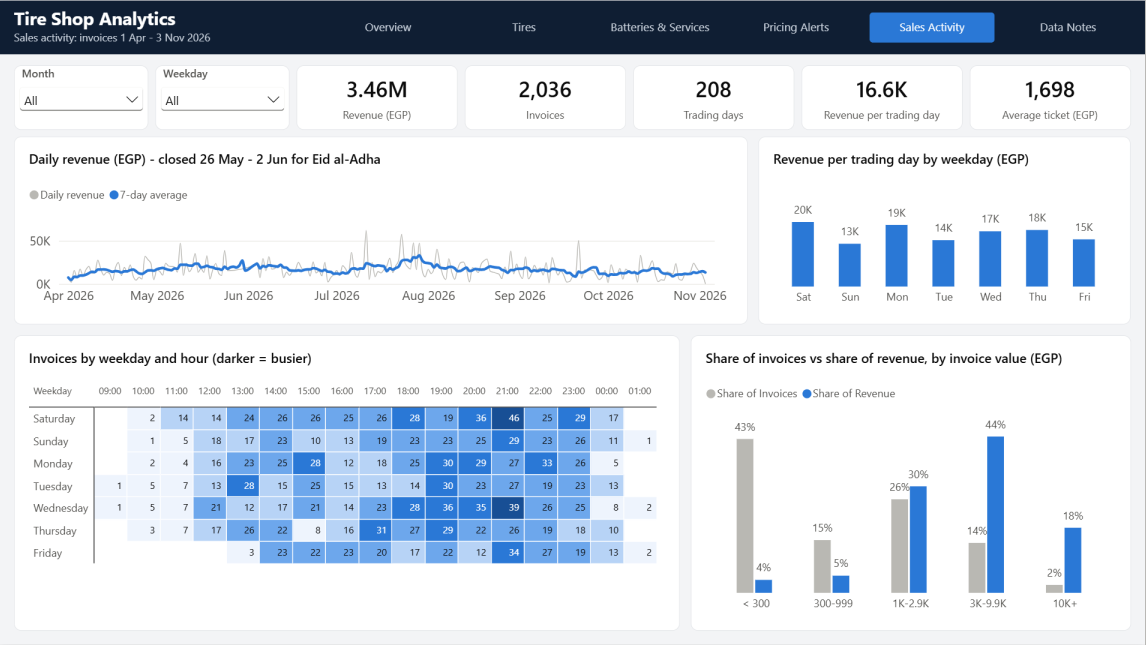

What the dashboard file says about the page in this screenshot:
{"tool":"powerbi","page":{"name":"Sales Activity","canvas":[1280,720],"ordinal":4},"visuals":[{"type":"shape","box":[0,0,1280,60],"z":100},{"type":"textbox","box":[16,6,340,50],"z":200},{"type":"pageNavigator","box":[364,13,900,34],"z":300},{"type":"slicer","fields":{"Values":["Calendar.Month Short"]},"box":[16,72,150,72],"z":400},{"type":"slicer","fields":{"Values":["Calendar.Weekday"]},"box":[174,72,150,72],"z":500},{"type":"card","fields":{"Values":["Invoices.Invoice Revenue"]},"box":[332,72,180,72],"z":600},{"type":"card","fields":{"Values":["Invoices.Invoice Count"]},"box":[520,72,180,72],"z":700},{"type":"card","fields":{"Values":["Invoices.Trading Days"]},"box":[708,72,180,72],"z":800},{"type":"card","fields":{"Values":["Invoices.Revenue per Trading Day"]},"box":[896,72,180,72],"z":900},{"type":"card","fields":{"Values":["Invoices.Avg Ticket"]},"box":[1084,72,180,72],"z":1000},{"type":"lineChart","title":"Daily revenue (EGP) - closed 26 May - 2 Jun for Eid al-Adha","fields":{"Category":["Calendar.Date"],"Y":["Invoices.Invoice Revenue","Invoices.Revenue 7-Day Avg"]},"box":[16,152,820,210],"z":1100},{"type":"pivotTable","title":"Invoices by weekday and hour (darker = busier)","fields":{"Columns":["Invoices.Hour"],"Rows":["Calendar.Weekday"],"Values":["Invoices.Invoice Count"]},"box":[16,374,744,330],"z":1200},{"type":"clusteredColumnChart","title":"Revenue per trading day by weekday (EGP)","fields":{"Category":["Calendar.Weekday Short"],"Y":["Invoices.Revenue per Trading Day"]},"box":[848,152,416,210],"z":1300},{"type":"clusteredColumnChart","title":"Share of invoices vs share of revenue, by invoice value (EGP)","fields":{"Category":["Invoices.Ticket Band"],"Y":["Invoices.Share of Invoices","Invoices.Share of Revenue"]},"box":[772,374,492,330],"z":1400}]}

Visuals, with their boxes in screenshot pixels (x1, y1, x2, y2), scaled from the page's 1280x720 canvas onto the 1146x645 screenshot:
shape: locate(0, 0, 1145, 54)
textbox: locate(14, 5, 319, 50)
pageNavigator: locate(326, 12, 1132, 42)
slicer - Calendar.Month Short: locate(14, 64, 149, 129)
slicer - Calendar.Weekday: locate(156, 64, 290, 129)
card - Invoices.Invoice Revenue: locate(297, 64, 458, 129)
card - Invoices.Invoice Count: locate(466, 64, 627, 129)
card - Invoices.Trading Days: locate(634, 64, 795, 129)
card - Invoices.Revenue per Trading Day: locate(802, 64, 963, 129)
card - Invoices.Avg Ticket: locate(971, 64, 1132, 129)
"Daily revenue (EGP) - closed 26 May - 2 Jun for Eid al-Adha" lineChart: locate(14, 136, 748, 324)
"Invoices by weekday and hour (darker = busier)" pivotTable: locate(14, 335, 680, 631)
"Revenue per trading day by weekday (EGP)" clusteredColumnChart: locate(759, 136, 1132, 324)
"Share of invoices vs share of revenue, by invoice value (EGP)" clusteredColumnChart: locate(691, 335, 1132, 631)
